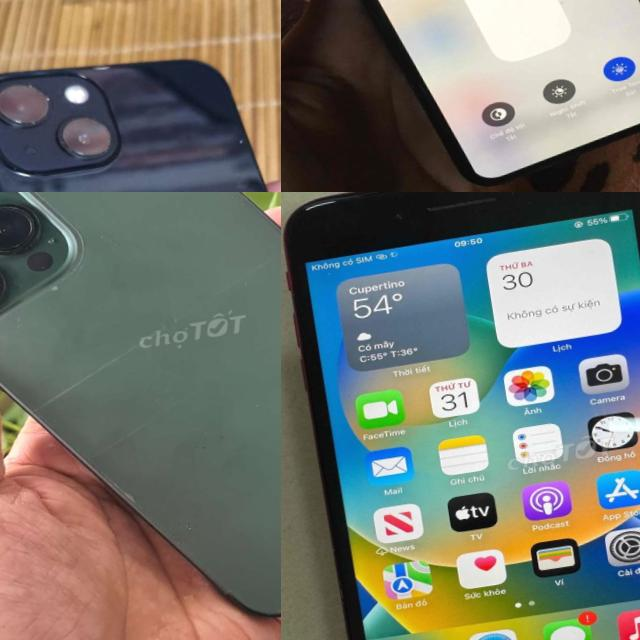gen_12_13: (0, 192, 281, 640), (0, 26, 281, 192)
gen_7_8: (281, 192, 640, 640)
gen_x_xs: (281, 0, 640, 192)
